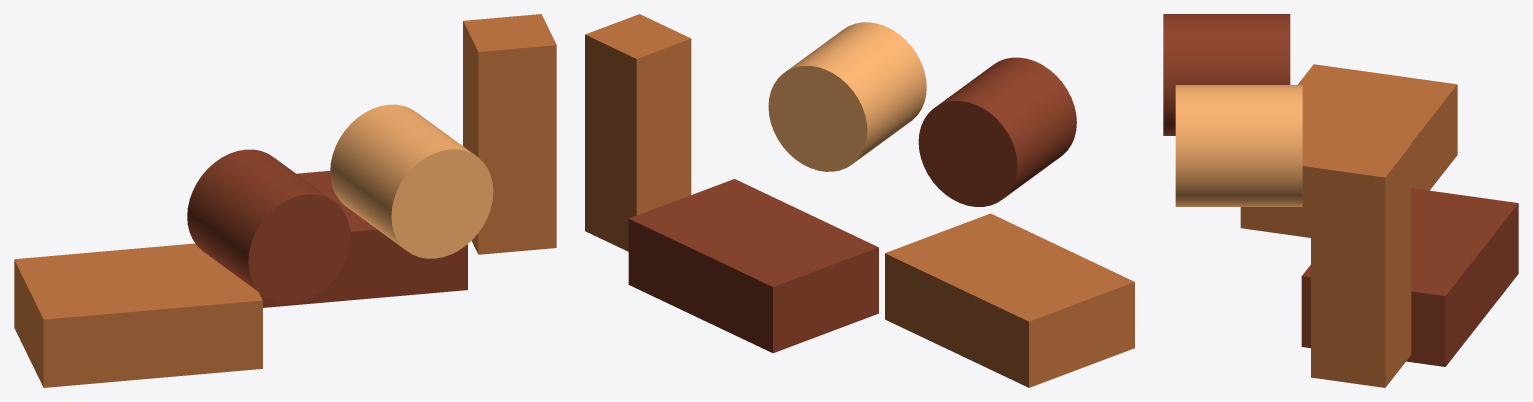
The model's file is custom-copper-parts.glb.
3 views of the same model, side by side, from view 1: azimuth 30°, elevation 25°; view 2: azimuth 150°, elevation 25°; view 3: azimuth 270°, elevation 25° (orthographic). The views are drawn at different scales.
Parts seen in each view (by area): view 1: custom-copper-parts; view 2: custom-copper-parts; view 3: custom-copper-parts.
Boxes of the visible parts, x1=… form: custom-copper-parts: x1=14, y1=14, x2=556, y2=387; custom-copper-parts: x1=585, y1=14, x2=1134, y2=387; custom-copper-parts: x1=1163, y1=14, x2=1518, y2=387.
Bounding box in the file's own units: 2.61 × 1.02 × 1.45.
